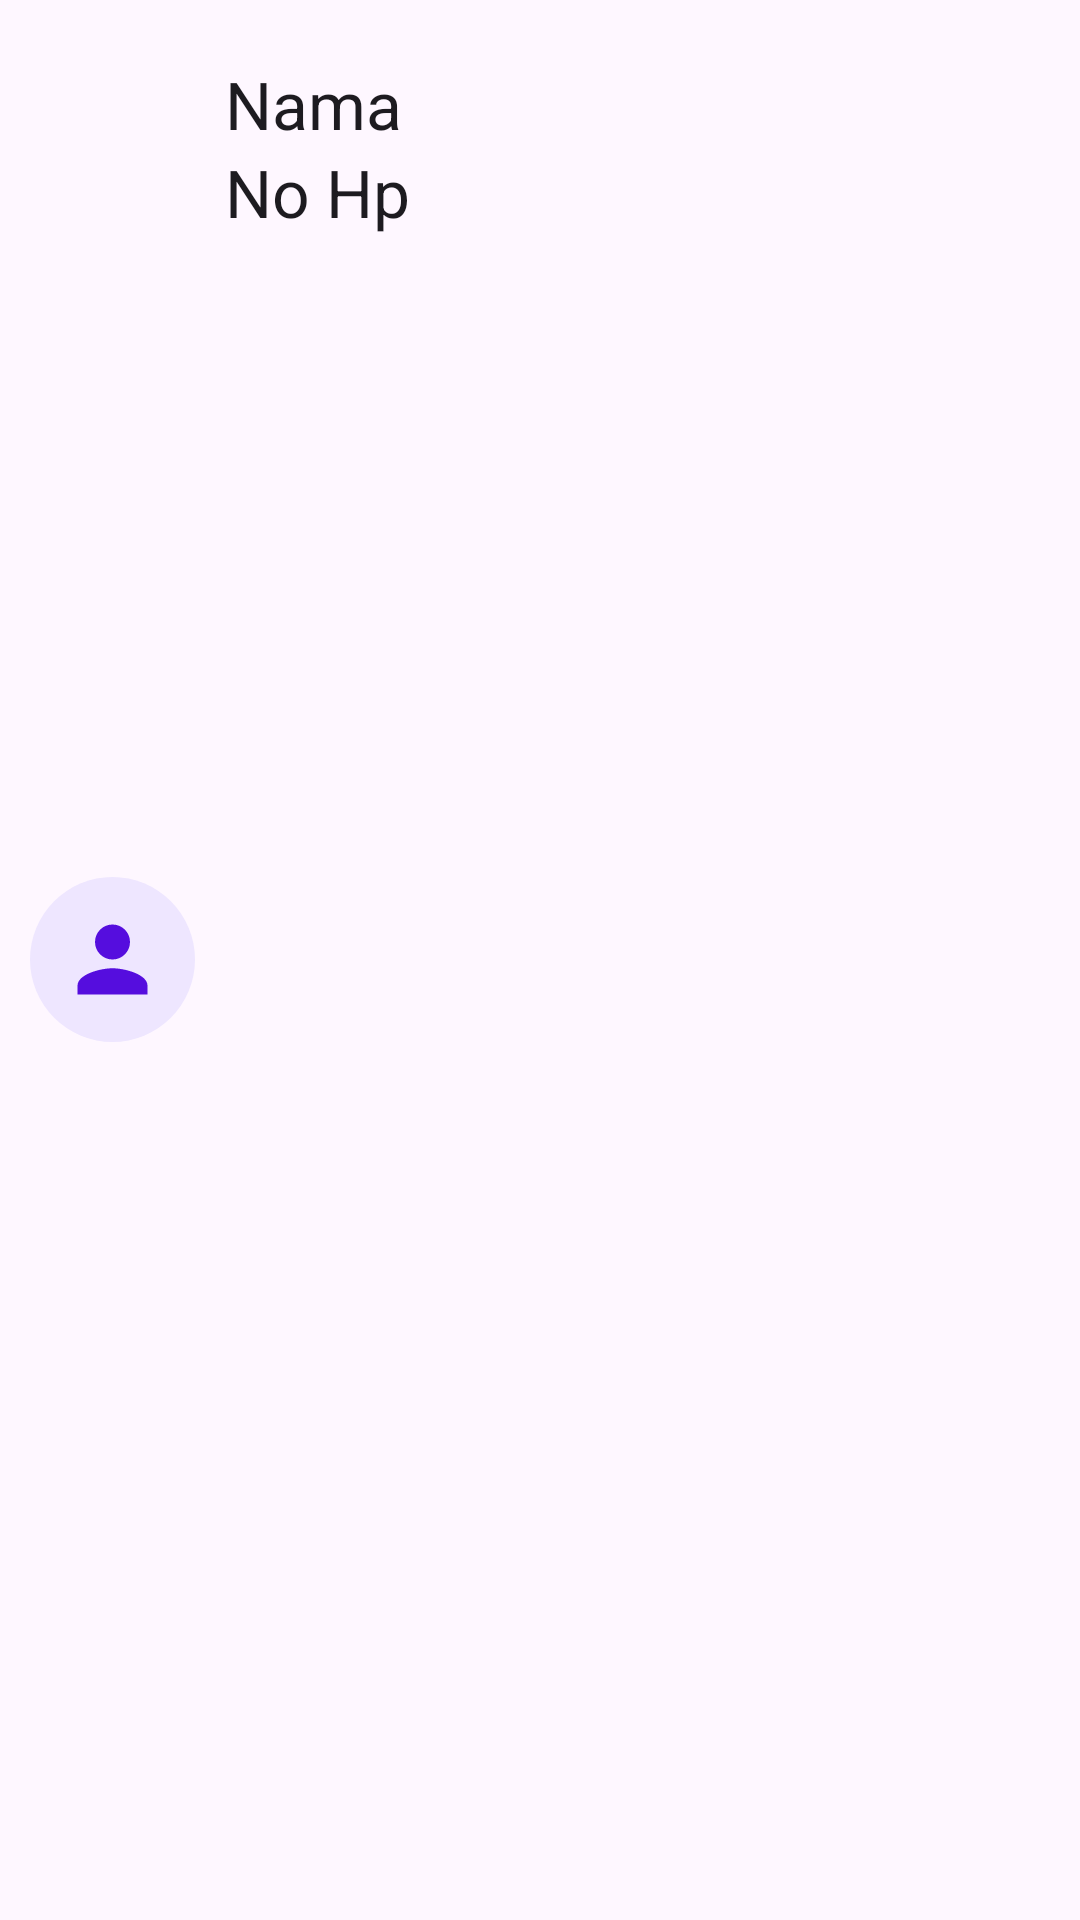

Locate icon controls on the screen. Image size 1080 x 1920, boxes as BBox(x1, y1, x2, y2).
person: BBox(77, 924, 148, 995)
